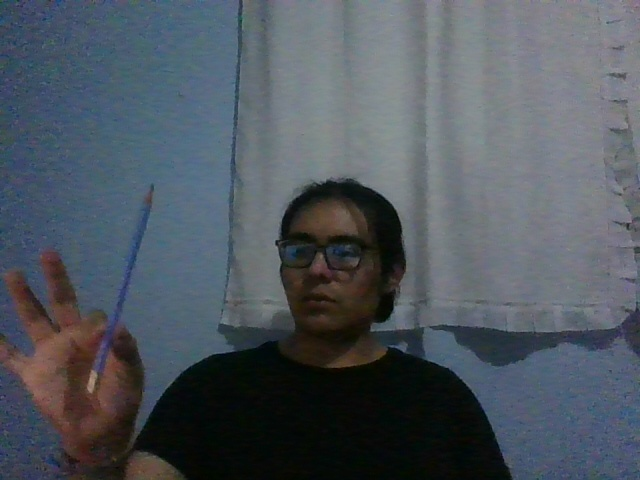lapiz: (85, 181, 155, 397)
